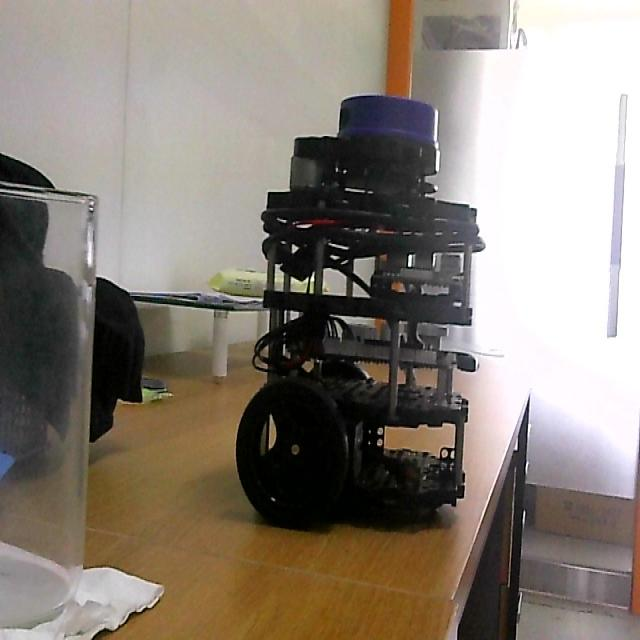turtle: (232, 89, 490, 533)
